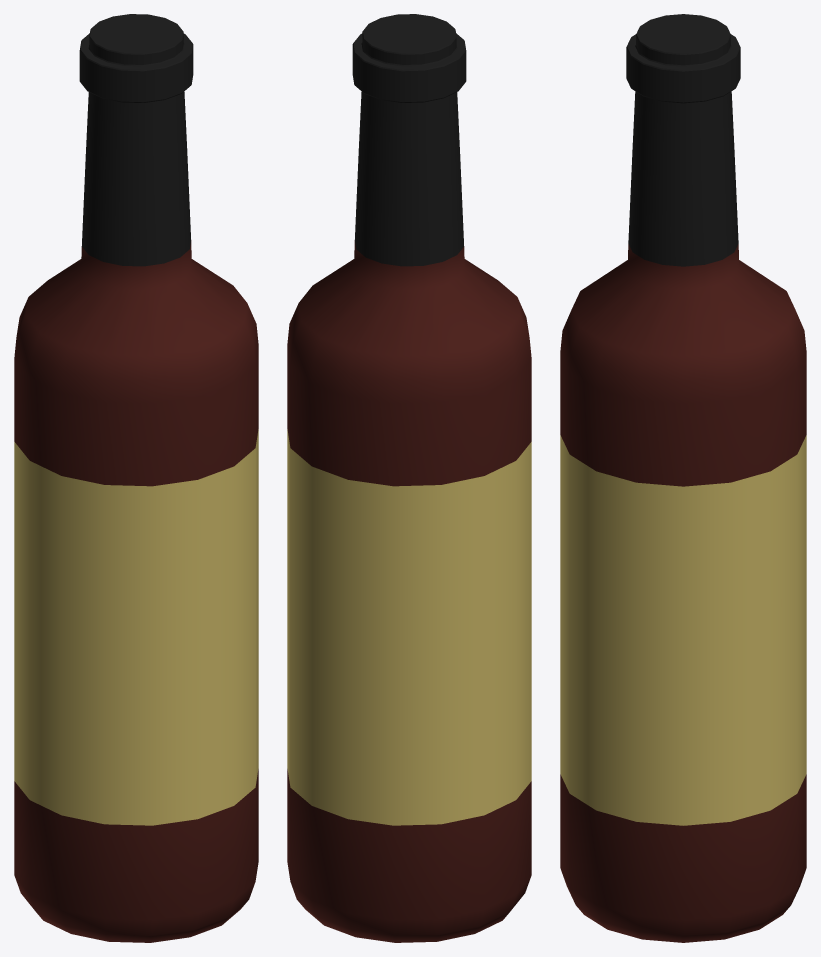
File: Wine Bottle.fbx
3 renders of one model, left to right at view 1: azimuth 30°, elevation 25°; view 2: azimuth 150°, elevation 25°; view 3: azimuth 270°, elevation 25°, orthographic.
Parts seen in each view (by area): view 1: WineBottle; view 2: WineBottle; view 3: WineBottle.
Part boxes in pixels (left/top/right/bottom): WineBottle: left=14, top=14, right=258, bottom=942; WineBottle: left=287, top=14, right=531, bottom=942; WineBottle: left=560, top=14, right=806, bottom=942.
Size of the model in its own units: 7.89 by 30.53 by 7.89.
